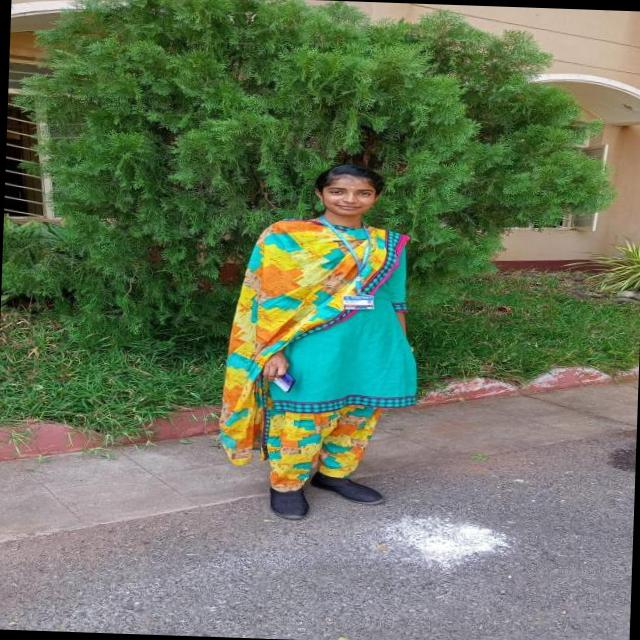id_card: (320, 214, 378, 308)
